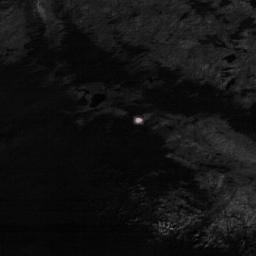Target: (134, 116, 143, 124)
